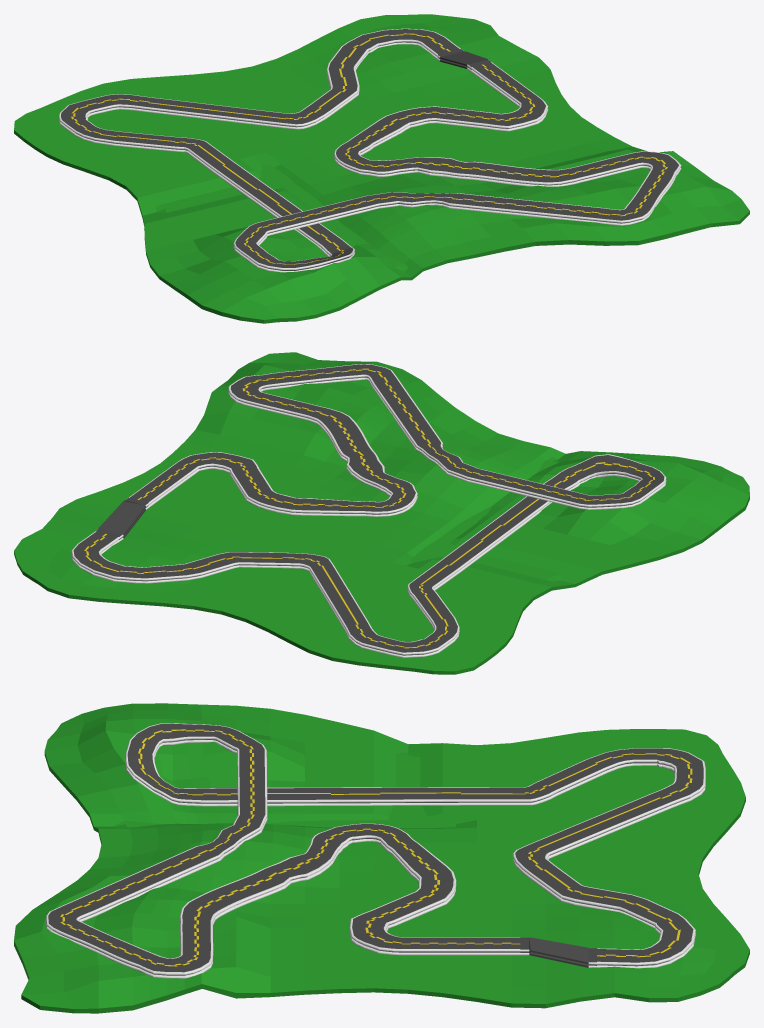
File: track-2.glb
3 renders of one model, top to bottom at view 1: azimuth 30°, elevation 25°; view 2: azimuth 150°, elevation 25°; view 3: azimuth 270°, elevation 25°, orthographic. The views are drawn at different scales.
Parts seen in each view (by area): view 1: ground, Cube, track; view 2: ground, Cube, track; view 3: ground, Cube, track.
Boxes of the visible parts, <box> form: ground: <box>14,14,749,323</box>; Cube: <box>58,28,681,269</box>; track: <box>58,41,681,272</box>; ground: <box>14,352,749,674</box>; Cube: <box>71,364,666,654</box>; track: <box>71,377,666,657</box>; ground: <box>14,703,749,1013</box>; Cube: <box>46,723,705,974</box>; track: <box>46,739,705,978</box>.
Bounding box in the file's own units: 158 × 7.98 × 162.
